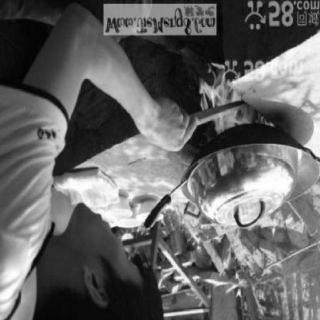Fire: (198, 63, 268, 143)
other: (45, 182, 79, 236)
